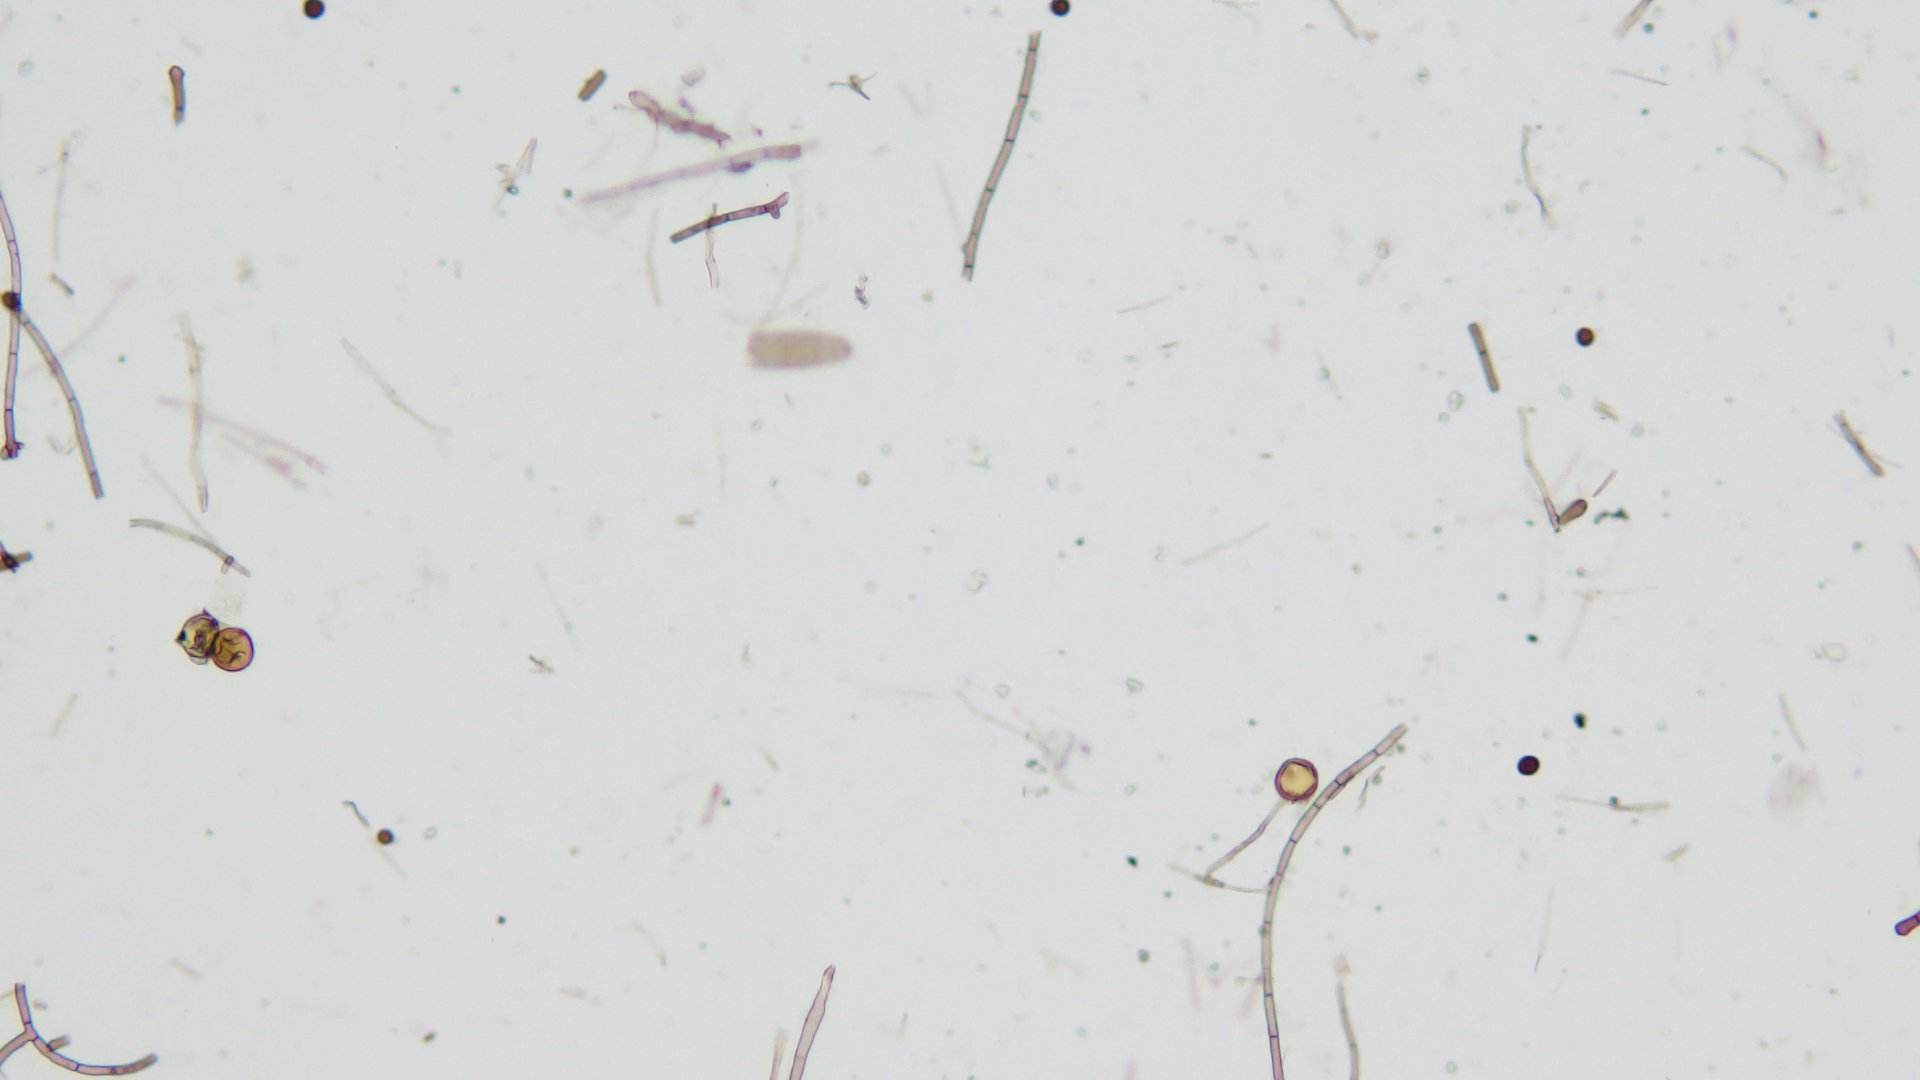shs_spore: (1518, 756, 1542, 775), (1577, 328, 1596, 347)
xb_spore: (210, 629, 253, 673), (1276, 757, 1319, 799), (179, 615, 218, 658)
